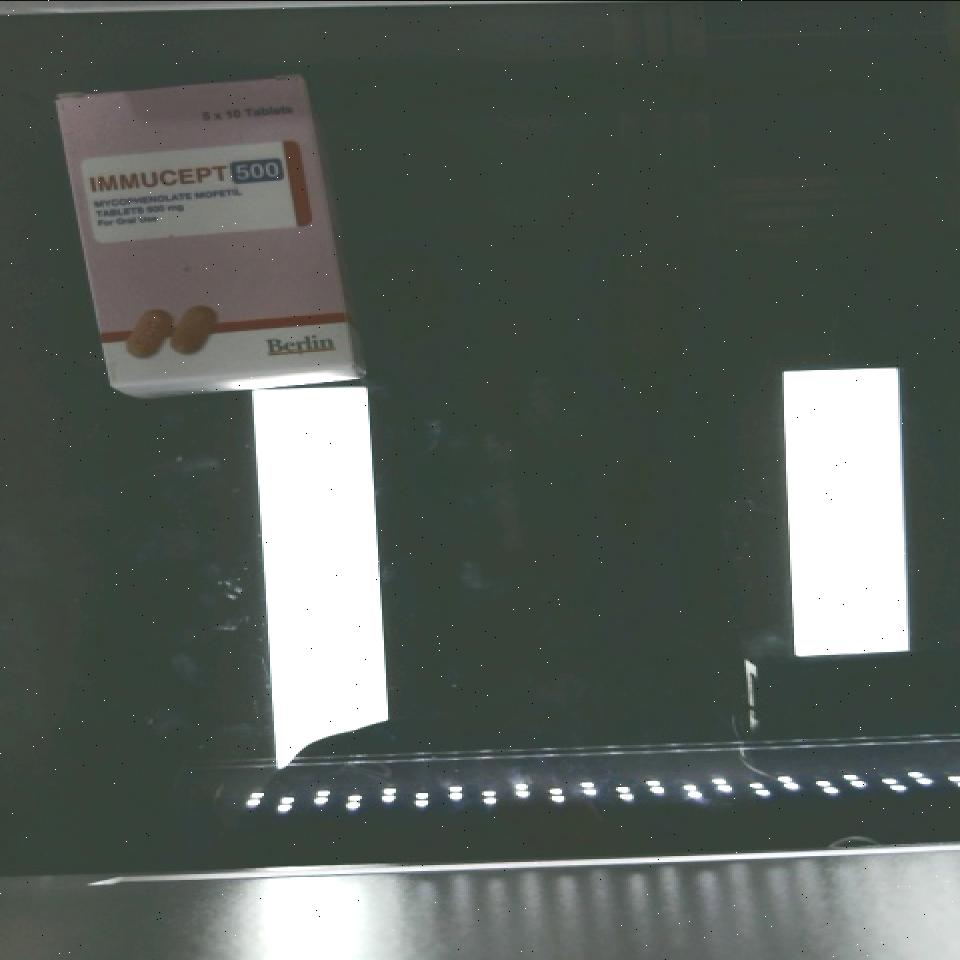medicine_box: (60, 56, 356, 413)
medicine_label_obb: (80, 139, 300, 203)
